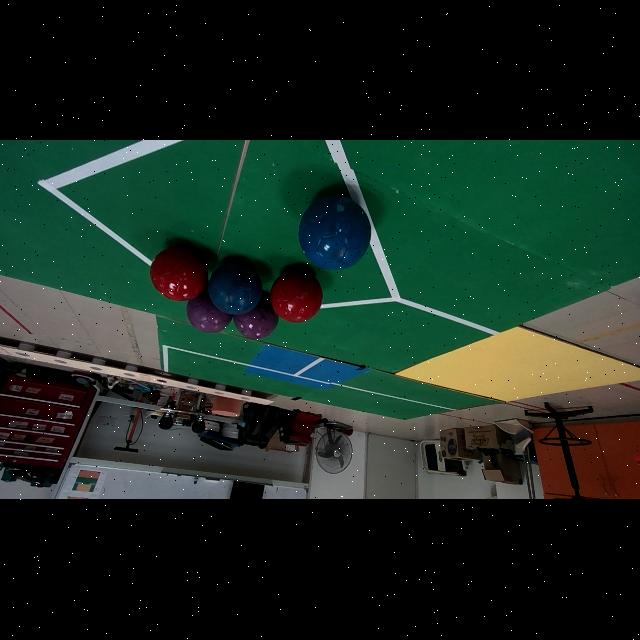B: (299, 195, 371, 270), (208, 262, 261, 314)
P: (233, 294, 279, 339), (187, 290, 232, 333)
R: (150, 246, 207, 302), (270, 269, 323, 323)
